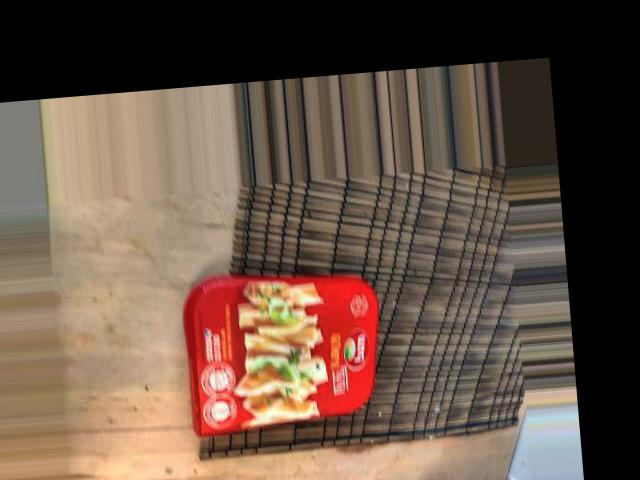cheese: (289, 194, 426, 401)
